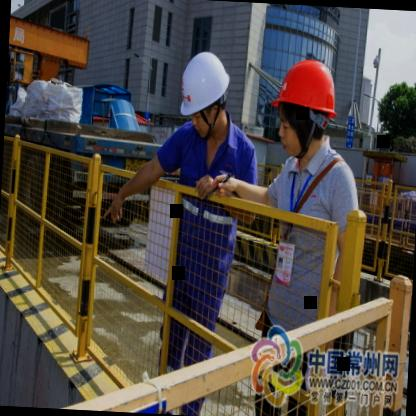helmet: (266, 44, 348, 166), (174, 42, 236, 140)
